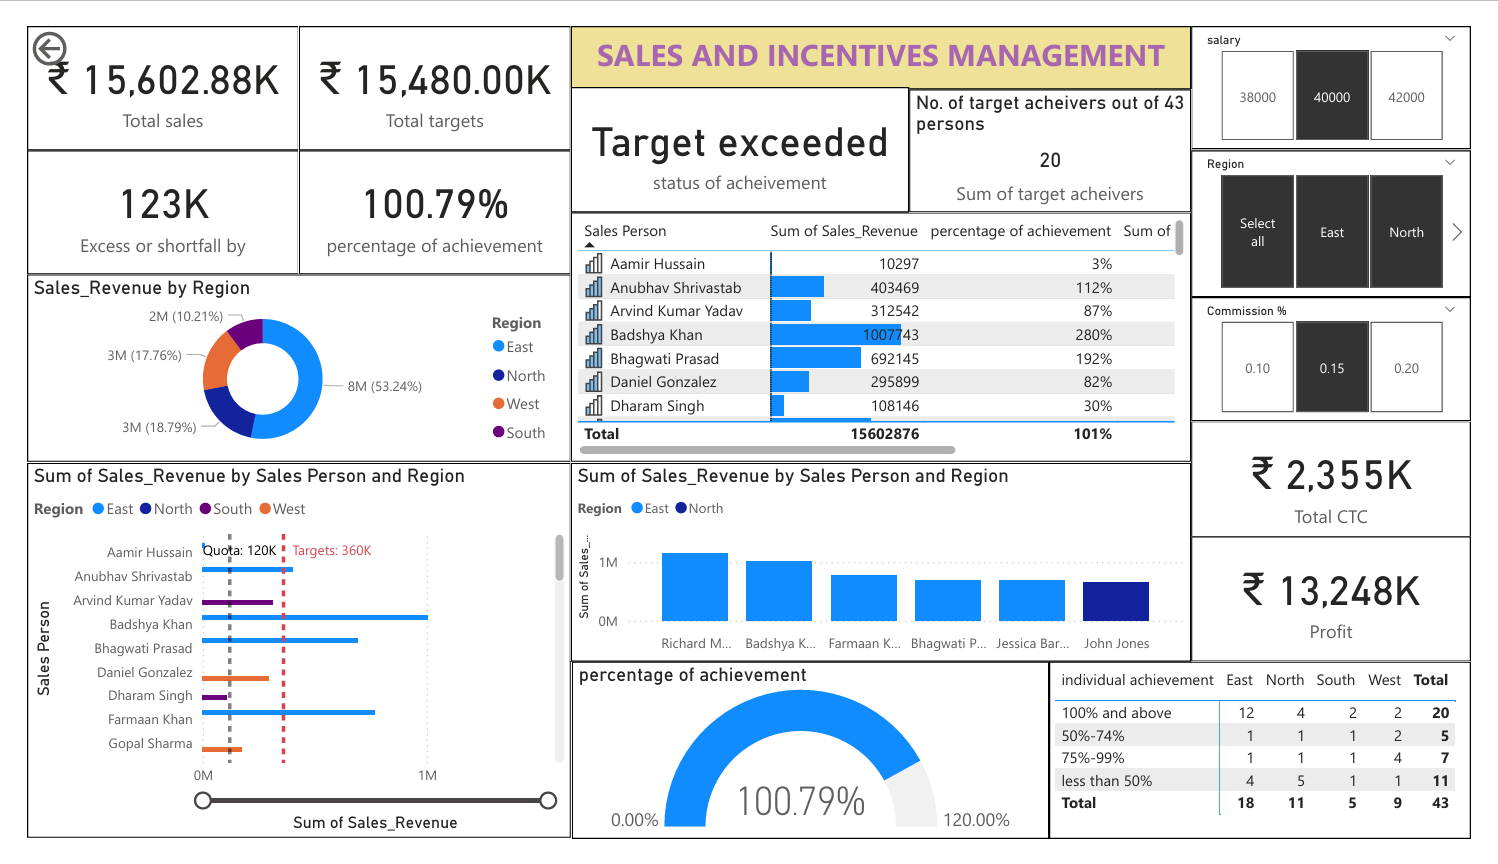

The dashboard page shown, as its layout file describes it:
{"tool":"powerbi","page":{"name":"Page 1","canvas":[1280,720],"ordinal":0},"visuals":[{"type":"slicer","fields":{"Values":["salary.salary"]},"box":[1032.1,0,248.2,108.8],"z":0},{"type":"card","fields":{"Values":["Sum(Sales_data.Sales_Revenue)"]},"box":[0,0,240.9,109.8],"z":1000},{"type":"card","fields":{"Values":["Sales_data.Total targets"]},"box":[240.9,0,240.9,109.8],"z":2000},{"type":"textbox","box":[481.8,0,550.2,55.6],"z":3000},{"type":"card","fields":{"Values":["Sales_data.Excess or shortfall"]},"box":[0,109.8,240.9,109.8],"z":4000},{"type":"card","fields":{"Values":["Sales_data.percentage of achievement"]},"box":[240.9,109.8,240.9,109.8],"z":5000},{"type":"card","fields":{"Values":["Sales_data.status of acheivement"]},"box":[481.6,53.5,300.5,111.1],"z":6000},{"type":"donutChart","fields":{"Category":["Sales_data.Region"],"Y":["Sum(Sales_data.Sales_Revenue)"]},"box":[0,220.1,481.8,166.3],"z":7000},{"type":"tableEx","fields":{"Values":["Sales_data.Sales Person","Sum(Sales_data.Sales_Revenue)","Sales_data.percentage of achievement","Sum(Sales_data.commission)","Commission %.Quota acheivement","Sales_data.Total CTC"]},"box":[481.8,165.1,550.3,221.3],"z":8000},{"type":"card","fields":{"Values":["Sum(Sales_data.target acheivers)"]},"box":[782.2,56.3,249.7,108.4],"z":9000},{"type":"slicer","fields":{"Values":["Sales_data.Region"]},"box":[1032.1,110.1,248.2,129.6],"z":10000},{"type":"gauge","fields":{"Y":["Sales_data.percentage of achievement"]},"box":[483,562.6,422.6,157.8],"z":11000},{"type":"card","fields":{"Values":["Sales_data.Total CTC"]},"box":[1032.1,349.7,248.2,110.1],"z":12000},{"type":"slicer","fields":{"Values":["Commission %.Commission %"]},"box":[1032.1,239.7,248.2,110.1],"z":13000},{"type":"card","fields":{"Values":["Commission %.Profit"]},"box":[1032.1,452.4,248.2,110.1],"z":14000},{"type":"clusteredBarChart","fields":{"Category":["Sales_data.Sales Person"],"Y":["Sum(Sales_data.Sales_Revenue)"],"Series":["Sales_data.Region"]},"box":[0,387,481.6,332.1],"z":15000},{"type":"actionButton","box":[0,0,100,40],"z":16000},{"type":"pivotTable","fields":{"Rows":["Sales_data.individual achievement"],"Columns":["Sales_data.Region"],"Values":["Count(Sales_data.Sales Person)"]},"box":[906.1,562.5,374.2,157.7],"z":17000},{"type":"columnChart","fields":{"Category":["Sales_data.Sales Person"],"Y":["Sum(Sales_data.Sales_Revenue)"],"Series":["Sales_data.Region"]},"box":[481.6,387,550.3,175.6],"z":18000},{"type":"slicer","fields":{"Values":["Top n.Top n"]},"box":[100.2,100.2,299.1,100.2],"z":18001}]}

Visuals, with their boxes in screenshot pixels (x1, y1, x2, y2), scaled from the page's 1280x720 canvas onto the 1498x864 screenshot:
slicer - salary.salary: box(1208, 0, 1497, 131)
card - Sum(Sales_data.Sales_Revenue): box(0, 0, 282, 132)
card - Sales_data.Total targets: box(282, 0, 564, 132)
textbox: box(564, 0, 1208, 67)
card - Sales_data.Excess or shortfall: box(0, 132, 282, 264)
card - Sales_data.percentage of achievement: box(282, 132, 564, 264)
card - Sales_data.status of acheivement: box(564, 64, 915, 198)
donutChart - Sales_data.Region x Sum(Sales_data.Sales_Revenue): box(0, 264, 564, 464)
tableEx - Sales_data.Sales Person x Sum(Sales_data.Sales_Revenue): box(564, 198, 1208, 464)
card - Sum(Sales_data.target acheivers): box(915, 68, 1208, 198)
slicer - Sales_data.Region: box(1208, 132, 1497, 288)
gauge - Sales_data.percentage of achievement: box(565, 675, 1060, 863)
card - Sales_data.Total CTC: box(1208, 420, 1497, 552)
slicer - Commission %.Commission %: box(1208, 288, 1497, 420)
card - Commission %.Profit: box(1208, 543, 1497, 675)
clusteredBarChart - Sales_data.Sales Person x Sum(Sales_data.Sales_Revenue): box(0, 464, 564, 863)
actionButton: box(0, 0, 117, 48)
pivotTable - Sales_data.individual achievement x Sales_data.Region: box(1060, 675, 1497, 863)
columnChart - Sales_data.Sales Person x Sum(Sales_data.Sales_Revenue): box(564, 464, 1208, 675)
slicer - Top n.Top n: box(117, 120, 467, 240)
